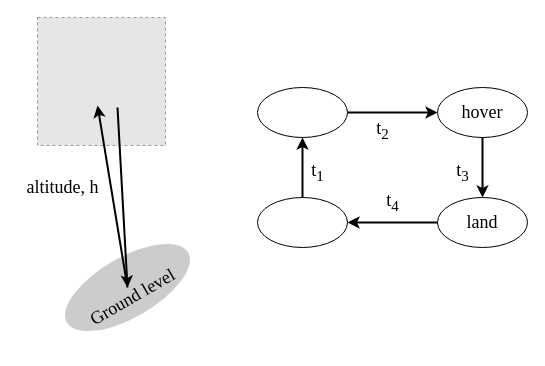
The diagram is 545 pixels wide and 366 high, and some of its shapes have lost their labels. Grey dashed boxes stand in for pictures. Here are the shapes that lost their labels. From the top down, the centre of each, then its label:
point 302,112: takeoff
point 302,222: hold
